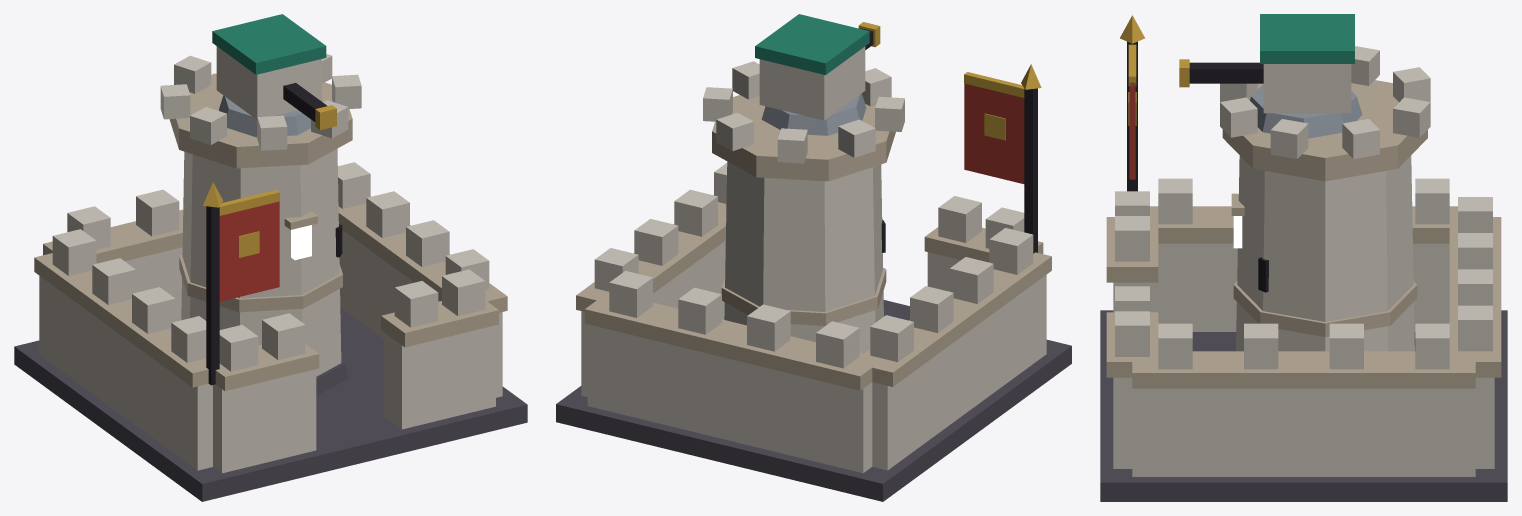
File: outpost_t1.glb
3 renders of one model, left to right at view 1: azimuth 30°, elevation 25°; view 2: azimuth 150°, elevation 25°; view 3: azimuth 270°, elevation 25°, orthographic. The views are drawn at different scales.
Parts seen in each view (by area): view 1: body, part_turret, glow; view 2: body, part_turret; view 3: body, part_turret.
Part boxes in pixels (bbox=[...]): body: bbox=[14, 54, 527, 501]; part_turret: bbox=[212, 14, 336, 137]; glow: bbox=[291, 225, 311, 260]; body: bbox=[556, 61, 1071, 501]; part_turret: bbox=[755, 14, 880, 135]; body: bbox=[1100, 15, 1507, 501]; part_turret: bbox=[1179, 14, 1362, 138].
Bounding box in the file's own units: 1.9 × 1.97 × 1.9.
